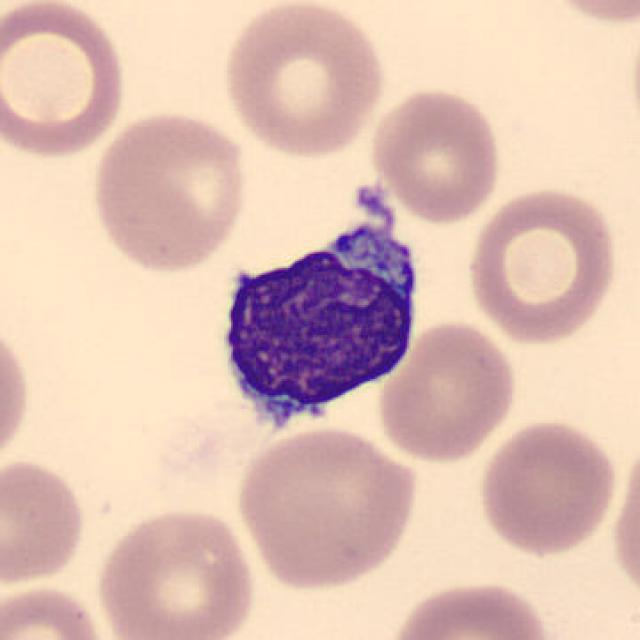Lymphocyte: (204, 199, 428, 446)
RBC: (233, 422, 421, 594), (85, 106, 252, 277), (216, 0, 389, 160), (462, 182, 622, 347), (92, 502, 262, 640), (373, 318, 521, 466), (0, 0, 132, 162), (474, 416, 620, 559), (366, 83, 507, 226), (0, 455, 89, 589), (382, 575, 556, 640), (2, 580, 112, 640), (608, 423, 640, 614), (0, 316, 34, 472), (537, 0, 640, 28)
